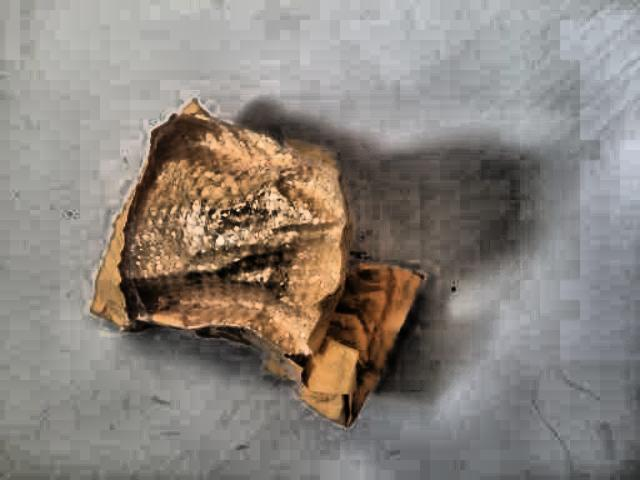Plastic: (56, 87, 427, 442)
